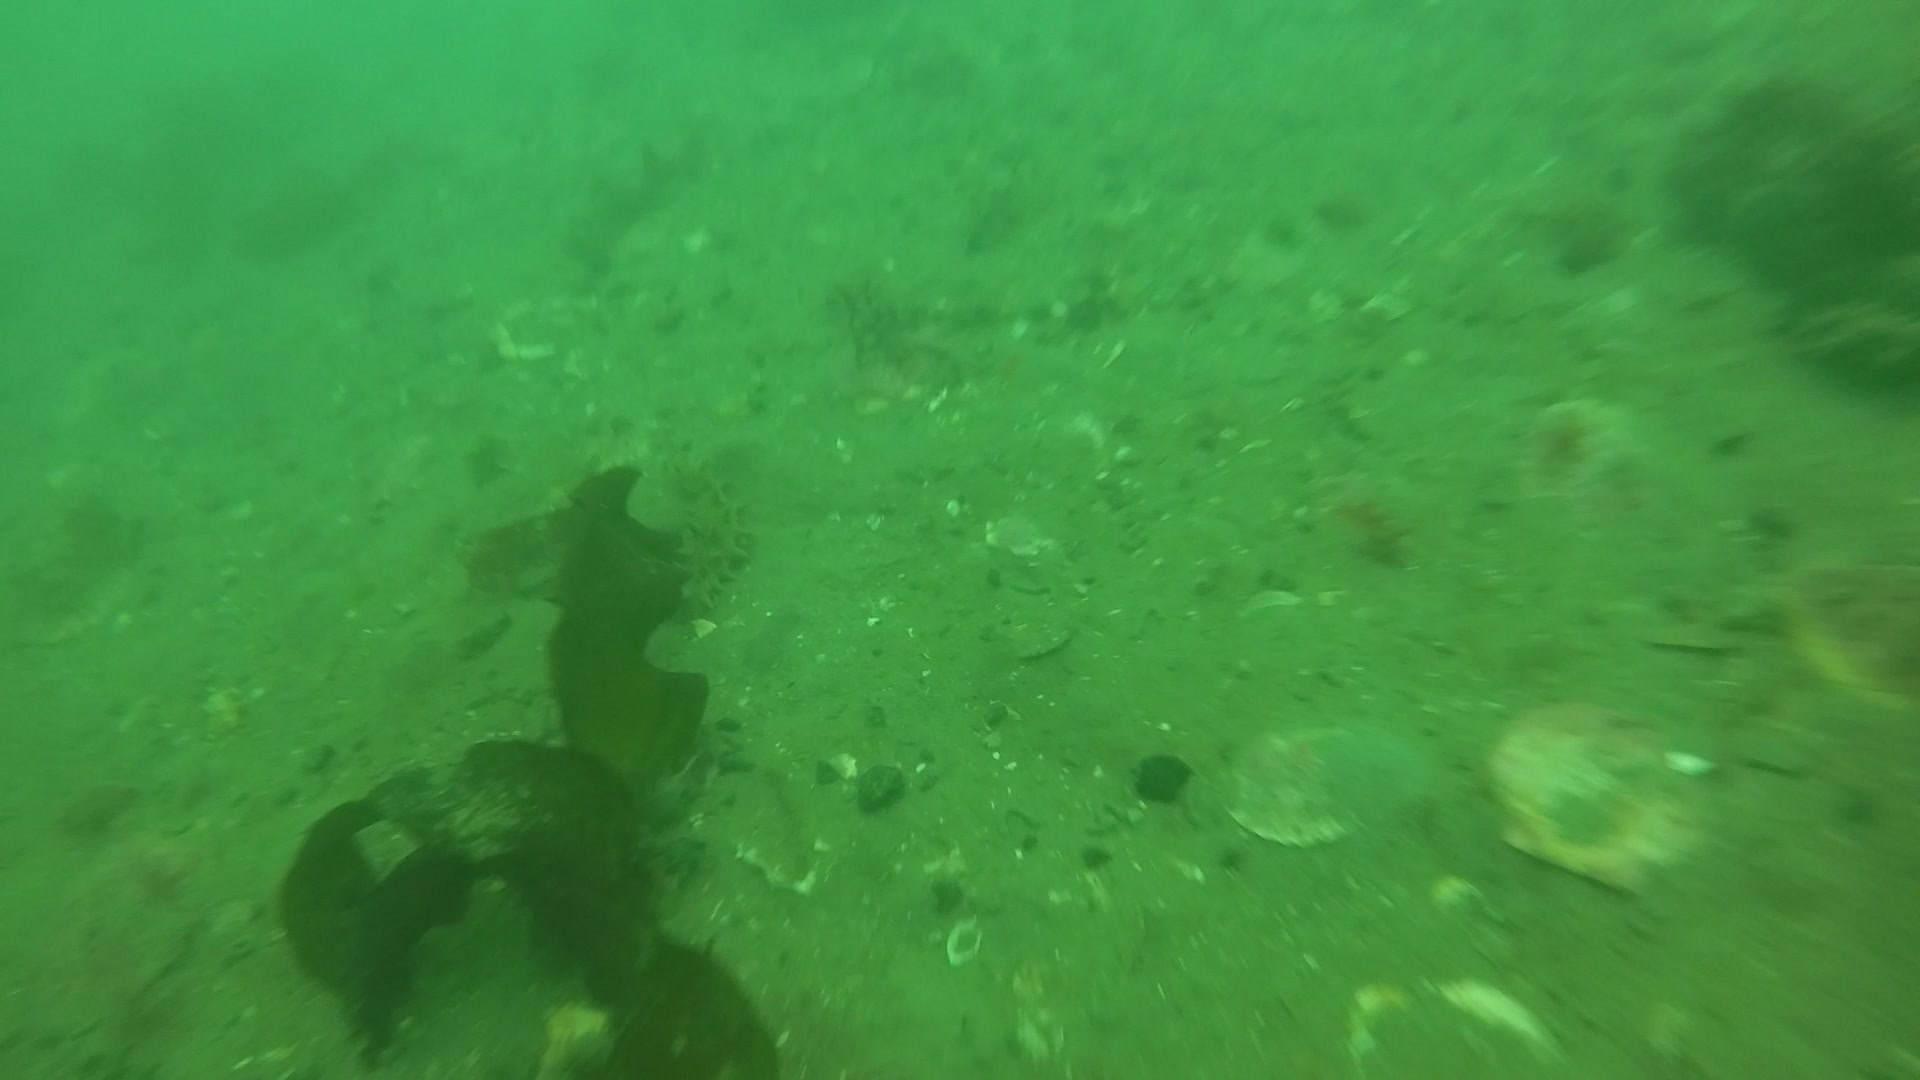holothurian: (651, 452, 758, 633)
scallop: (1484, 695, 1714, 897), (1220, 713, 1444, 853), (1349, 971, 1569, 1075)
